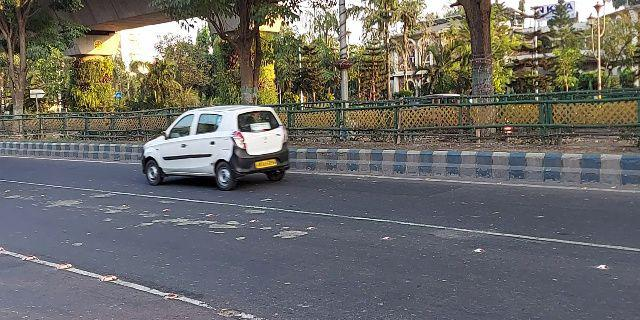Car: (137, 102, 290, 192)
